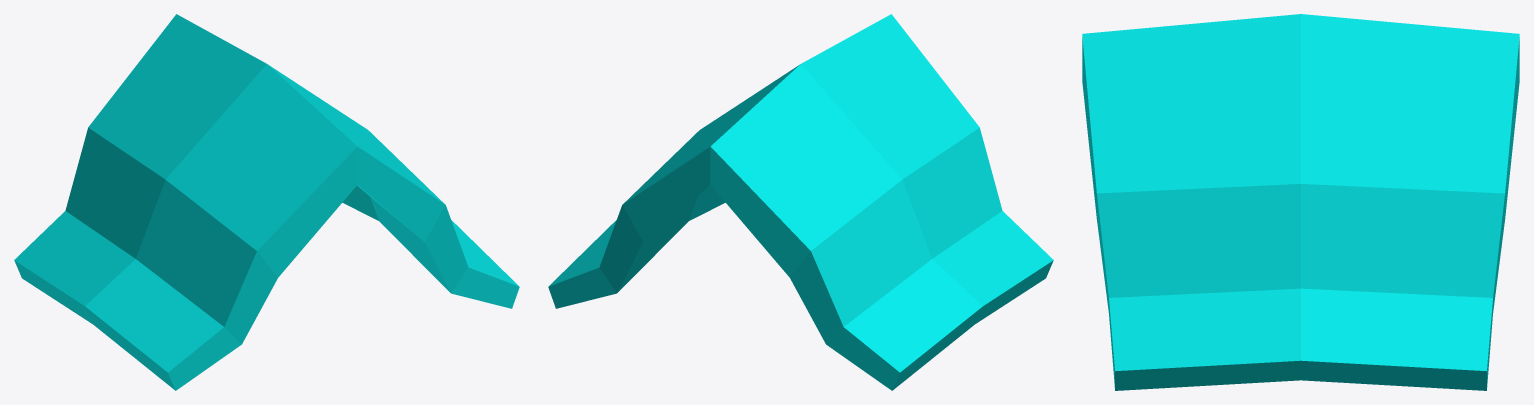
File: SM_Bld_Roof_Thatch_Preset_S_01_Collision.fbx
3 renders of one model, left to right at view 1: azimuth 30°, elevation 25°; view 2: azimuth 150°, elevation 25°; view 3: azimuth 270°, elevation 25°, orthographic. The views are drawn at different scales.
Parts seen in each view (by area): view 1: SM_Bld_Roof_Thatch_Preset_S_01_Collision; view 2: SM_Bld_Roof_Thatch_Preset_S_01_Collision; view 3: SM_Bld_Roof_Thatch_Preset_S_01_Collision.
Boxes of the visible parts, x1,y1,x2,y2 form: SM_Bld_Roof_Thatch_Preset_S_01_Collision: [14, 14, 519, 390]; SM_Bld_Roof_Thatch_Preset_S_01_Collision: [548, 14, 1053, 390]; SM_Bld_Roof_Thatch_Preset_S_01_Collision: [1082, 14, 1519, 390].
Bounding box in the file's own units: 588 × 355 × 507.
